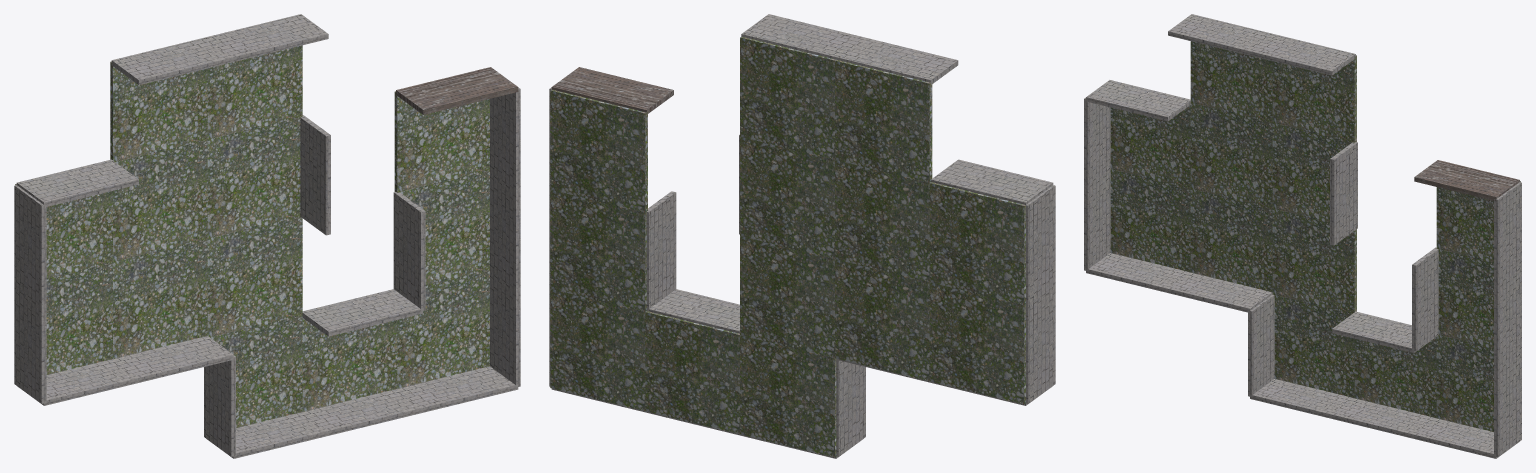
File: room1.gltf
3 views of the same model, side by side, from view 1: azimuth 30°, elevation 25°; view 2: azimuth 150°, elevation 25°; view 3: azimuth 330°, elevation 25° (orthographic). The views are drawn at different scales.
Visible parts, largest first — view 1: Cube.092, Cube.093, Cube.091, Cube.090, Cube.097, Cube.089, Cube.099, Cube.096, Cube.094, Cube.095, Cube.098, Cube.087 (+19 smaller); view 2: Cube.099, Cube.089, Cube.088, Cube.098, Cube.095, Cube.087, Cube.094, Cube.096, Cube.097, Cube.091, Cube.092, Cube.093 (+10 smaller); view 3: Cube.090, Cube.092, Cube.091, Cube.087, Cube.095, Cube.094, Cube.088, Cube.093, Cube.096, Cube.089, Cube.097, Cube.098 (+19 smaller).
Part boxes in pixels (bbox=[...]): Cube.092: bbox=[207, 216, 302, 337]; Cube.093: bbox=[207, 117, 300, 238]; Cube.091: bbox=[113, 239, 207, 358]; Cube.090: bbox=[113, 140, 207, 261]; Cube.097: bbox=[397, 269, 489, 388]; Cube.089: bbox=[110, 61, 207, 162]; Cube.099: bbox=[394, 91, 489, 192]; Cube.096: bbox=[302, 318, 397, 411]; Cube.094: bbox=[207, 45, 302, 139]; Cube.095: bbox=[211, 315, 302, 427]; Cube.098: bbox=[394, 170, 489, 284]; Cube.087: bbox=[46, 262, 112, 374]; Cube.099: bbox=[550, 89, 647, 212]; Cube.089: bbox=[835, 59, 932, 182]; Cube.088: bbox=[929, 182, 1025, 305]; Cube.098: bbox=[550, 189, 646, 311]; Cube.095: bbox=[740, 335, 836, 457]; Cube.087: bbox=[929, 282, 1025, 404]; Cube.094: bbox=[740, 36, 835, 159]; Cube.096: bbox=[645, 311, 739, 434]; Cube.097: bbox=[550, 289, 645, 410]; Cube.091: bbox=[835, 259, 929, 381]; Cube.092: bbox=[740, 236, 834, 358]; Cube.093: bbox=[740, 137, 834, 258]; Cube.090: bbox=[1190, 103, 1272, 208]; Cube.092: bbox=[1272, 209, 1356, 313]; Cube.091: bbox=[1190, 189, 1272, 292]; Cube.087: bbox=[1110, 169, 1190, 272]; Cube.095: bbox=[1274, 295, 1354, 397]; Cube.094: bbox=[1272, 55, 1356, 142]; Cube.088: bbox=[1110, 105, 1190, 188]; Cube.093: bbox=[1272, 123, 1356, 222]; Cube.096: bbox=[1354, 337, 1436, 417]; Cube.089: bbox=[1190, 41, 1272, 122]; Cube.097: bbox=[1436, 335, 1493, 431]; Cube.098: bbox=[1438, 249, 1493, 348].
Size of the model in its own units: 20.2 by 16.2 by 2.1.
3 materials, 3 textured.
